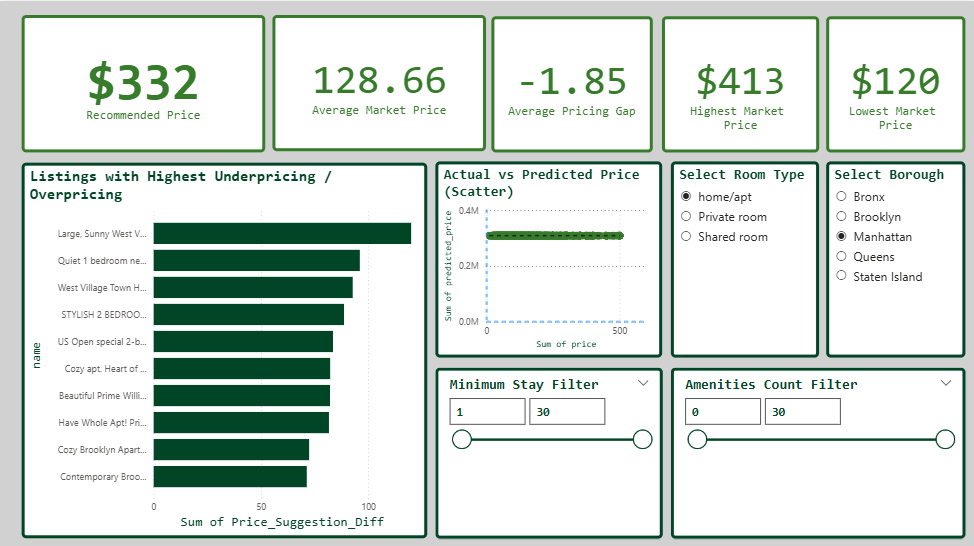

This screenshot's page, from the dashboard's own definition file:
{"tool":"powerbi","page":{"name":"Price Suggestion Tool","canvas":[1280,720],"ordinal":1},"visuals":[{"type":"listSlicer","title":"Select Borough","fields":{"Values":["price_suggestion_grid.neighbourhood_group"]},"box":[1082,210,182,257],"z":0},{"type":"listSlicer","title":"Select Room Type","fields":{"Values":["price_suggestion_grid.room_type"]},"box":[878,210,194,257],"z":1000},{"type":"slicer","fields":{"Values":["price_suggestion_grid.minimum_nights"]},"box":[570,480,298,224],"z":2000},{"type":"slicer","fields":{"Values":["price_suggestion_grid.amenities_count"]},"box":[878,480,386,224],"z":3000},{"type":"card","fields":{"Values":["price_suggestion_grid.Recommended Price"]},"box":[28,18,319,180],"z":4000},{"type":"card","fields":{"Values":["price_suggestion_grid.Max Price"]},"box":[866,20,206,178],"z":5000},{"type":"card","fields":{"Values":["price_suggestion_grid.Min Price"]},"box":[1082,20,182,178],"z":6000},{"type":"card","fields":{"Values":["Avg(Airbnb_PowerBI_Final_Dataset.price)"]},"box":[356,18,280,178],"z":7000},{"type":"card","fields":{"Values":["Avg(Airbnb_PowerBI_Final_Dataset.Price_Suggestion_Diff)"]},"box":[644,20,211,178],"z":8000},{"type":"scatterChart","title":"Actual vs Predicted Price (Scatter)","fields":{"X":["Sum(Airbnb_PowerBI_Final_Dataset.price)"],"Y":["Sum(price_suggestion_grid.predicted_price)"],"Category":["Airbnb_PowerBI_Final_Dataset.id"]},"box":[570,210,297,257],"z":9000},{"type":"clusteredBarChart","title":"Listings with Highest Underpricing / Overpricing","fields":{"Category":["Airbnb_PowerBI_Final_Dataset.name"],"Y":["Sum(Airbnb_PowerBI_Final_Dataset.Price_Suggestion_Diff)"]},"box":[28,212,531,492],"z":10000}]}

Visuals, with their boxes in screenshot pixels (x1, y1, x2, y2), scaled from the page's 1280x720 canvas onto the 974x546 screenshot:
"Select Borough" listSlicer: 823/159/962/354
"Select Room Type" listSlicer: 668/159/816/354
slicer - price_suggestion_grid.minimum_nights: 434/364/660/534
slicer - price_suggestion_grid.amenities_count: 668/364/962/534
card - price_suggestion_grid.Recommended Price: 21/14/264/150
card - price_suggestion_grid.Max Price: 659/15/816/150
card - price_suggestion_grid.Min Price: 823/15/962/150
card - Avg(Airbnb_PowerBI_Final_Dataset.price): 271/14/484/149
card - Avg(Airbnb_PowerBI_Final_Dataset.Price_Suggestion_Diff): 490/15/651/150
"Actual vs Predicted Price (Scatter)" scatterChart: 434/159/660/354
"Listings with Highest Underpricing / Overpricing" clusteredBarChart: 21/161/425/534
